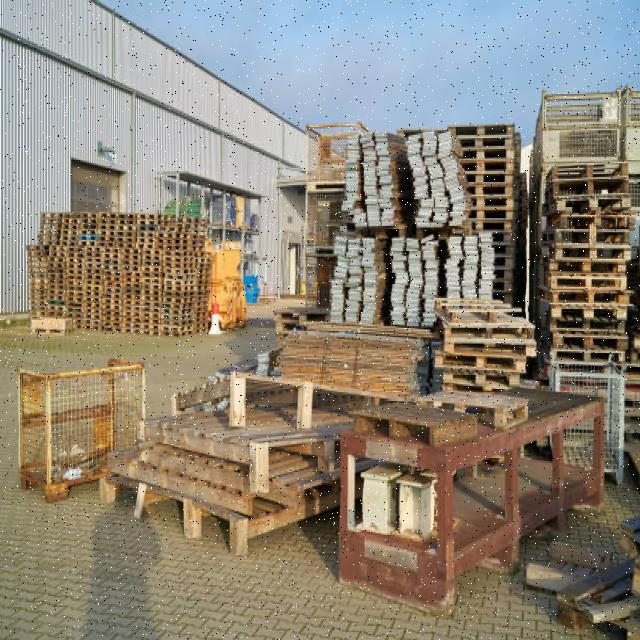Wooden-Pallets: (434, 351, 526, 376), (448, 320, 532, 346), (552, 171, 630, 195), (544, 286, 634, 306), (550, 242, 632, 262), (550, 345, 628, 365), (452, 126, 516, 140)
